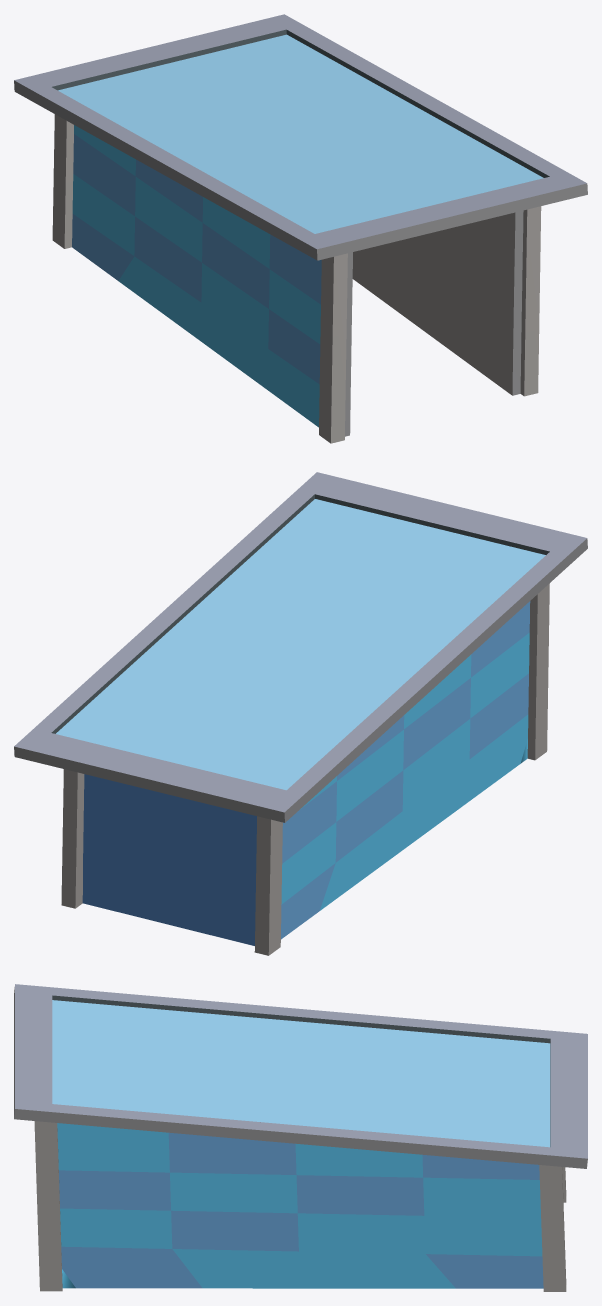
The model's file is putong_ditiezhan.fbx.
3 renders of one model, top to bottom at view 1: azimuth 30°, elevation 25°; view 2: azimuth 150°, elevation 25°; view 3: azimuth 270°, elevation 25°, orthographic. The views are drawn at different scales.
Visible parts, largest first — view 1: putong_ditiezhan; view 2: putong_ditiezhan; view 3: putong_ditiezhan.
Part boxes in pixels (<box>): putong_ditiezhan: <box>14,14,587,443</box>; putong_ditiezhan: <box>14,472,587,955</box>; putong_ditiezhan: <box>14,984,587,1291</box>.
Bounding box in the file's own units: 320 × 238 × 621.
